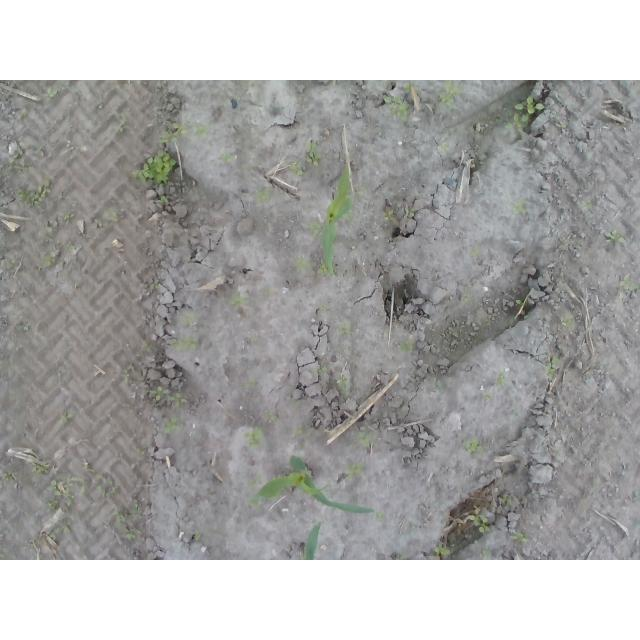Maize: (247, 453, 377, 515), (319, 159, 353, 277), (301, 520, 323, 561)
Weeds: (501, 95, 546, 134), (130, 147, 176, 185), (16, 176, 57, 209), (8, 144, 46, 172), (46, 211, 74, 240), (47, 477, 88, 496), (436, 80, 465, 106), (383, 93, 408, 121), (160, 120, 187, 145), (243, 424, 265, 450), (351, 430, 377, 451), (171, 336, 202, 353), (467, 513, 491, 534), (304, 139, 320, 167), (162, 415, 185, 434), (344, 462, 367, 479), (255, 184, 274, 204), (338, 371, 351, 399), (511, 195, 529, 215), (102, 205, 122, 223), (288, 161, 310, 177), (149, 384, 171, 400), (544, 355, 560, 377), (463, 437, 481, 455), (619, 275, 640, 290), (177, 311, 199, 325), (606, 231, 626, 246), (403, 80, 421, 96), (303, 222, 322, 237), (230, 292, 250, 305), (170, 391, 186, 407), (294, 257, 311, 272), (403, 206, 418, 223), (31, 459, 49, 473), (399, 340, 418, 353), (247, 471, 263, 486), (193, 124, 210, 138), (49, 526, 72, 536), (115, 111, 127, 130), (112, 508, 126, 524), (512, 532, 529, 545), (15, 321, 32, 334), (336, 321, 351, 335), (474, 153, 487, 169), (124, 527, 137, 543), (241, 376, 257, 389), (433, 544, 450, 556), (40, 255, 55, 268), (48, 496, 60, 512), (560, 317, 575, 329), (309, 366, 327, 376), (220, 151, 236, 162), (432, 377, 445, 390), (498, 494, 512, 506), (121, 368, 131, 384), (132, 502, 144, 515), (382, 210, 394, 223), (62, 411, 74, 423), (263, 409, 273, 423), (461, 292, 472, 304), (47, 86, 58, 98), (294, 424, 306, 435), (2, 471, 14, 482), (317, 262, 327, 275), (495, 375, 506, 386), (375, 511, 386, 522), (343, 213, 354, 224), (479, 548, 489, 560), (471, 246, 481, 257), (583, 201, 594, 210), (159, 195, 170, 204), (484, 392, 493, 402), (558, 120, 567, 129), (151, 281, 161, 289), (135, 448, 145, 456), (194, 531, 201, 542), (443, 142, 450, 152), (319, 303, 327, 311), (516, 299, 525, 306)
